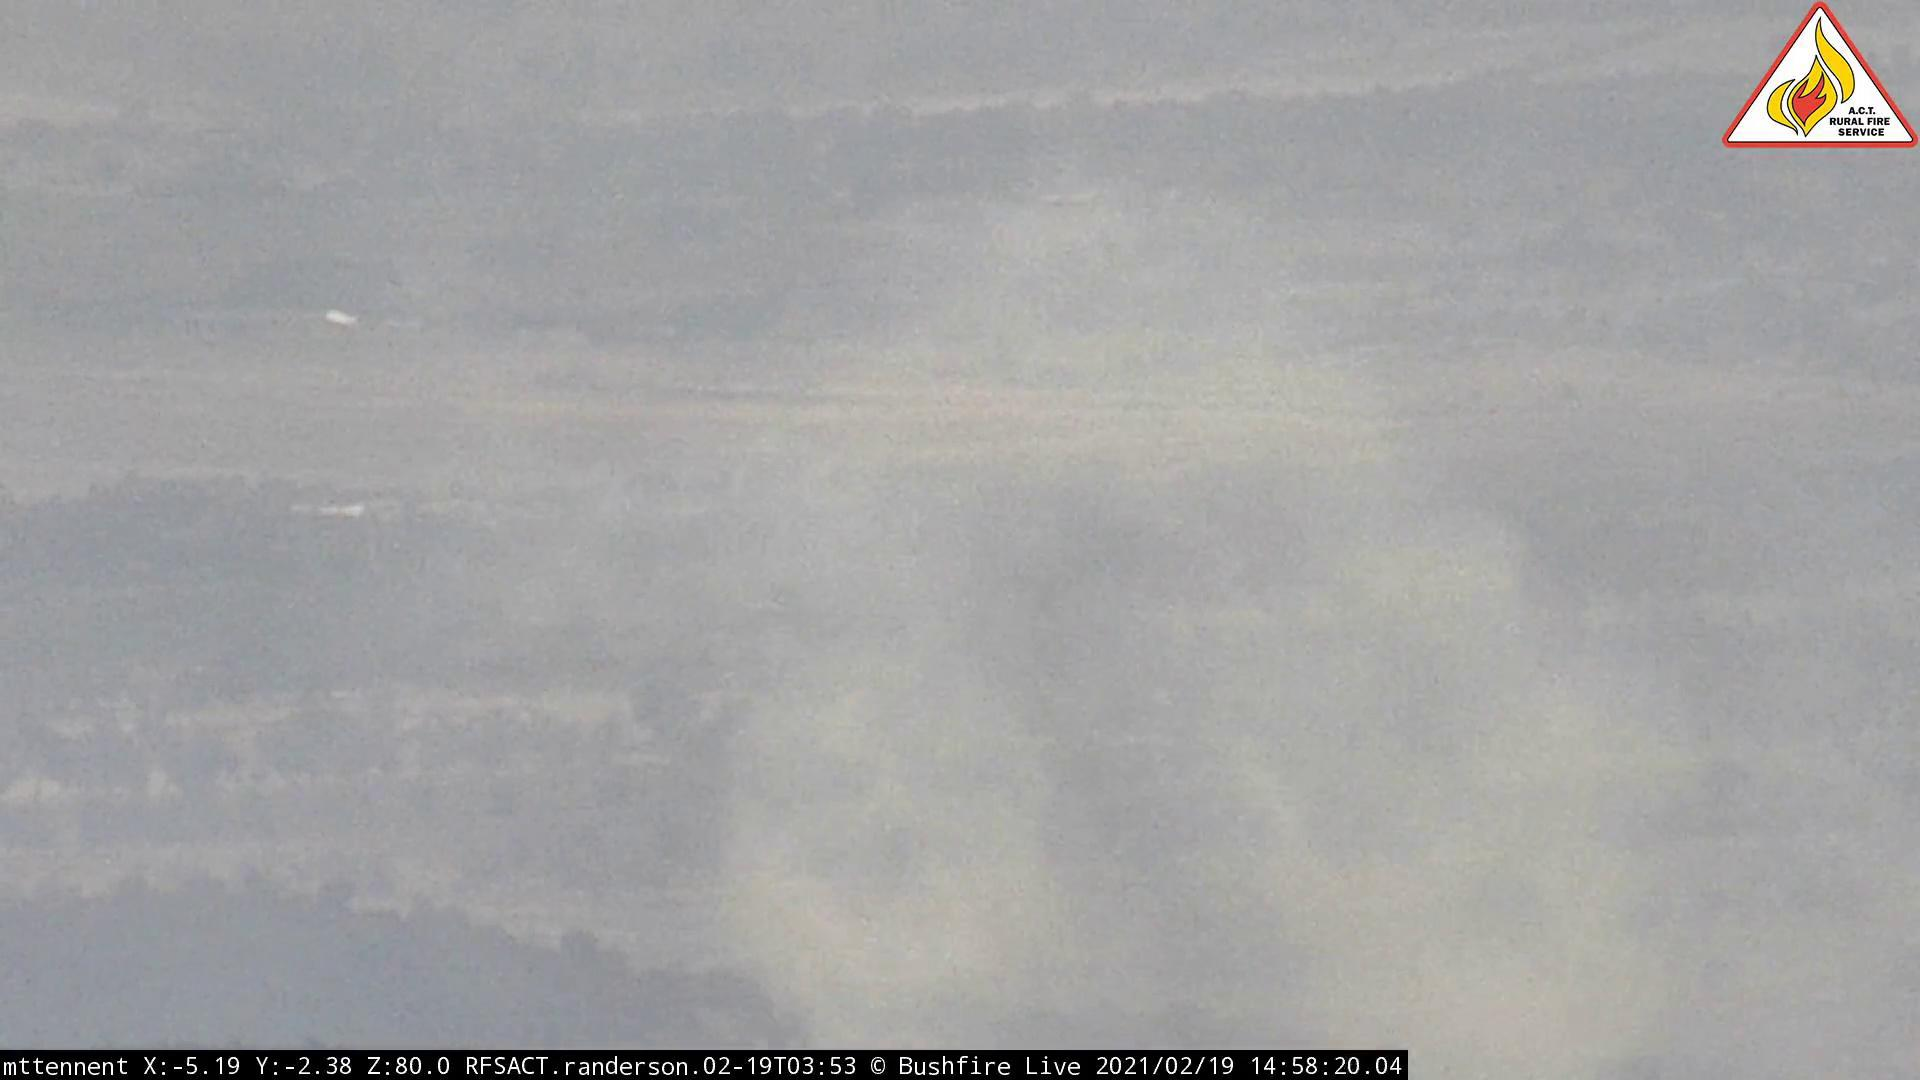Smoke: (742, 224, 1668, 1025)
